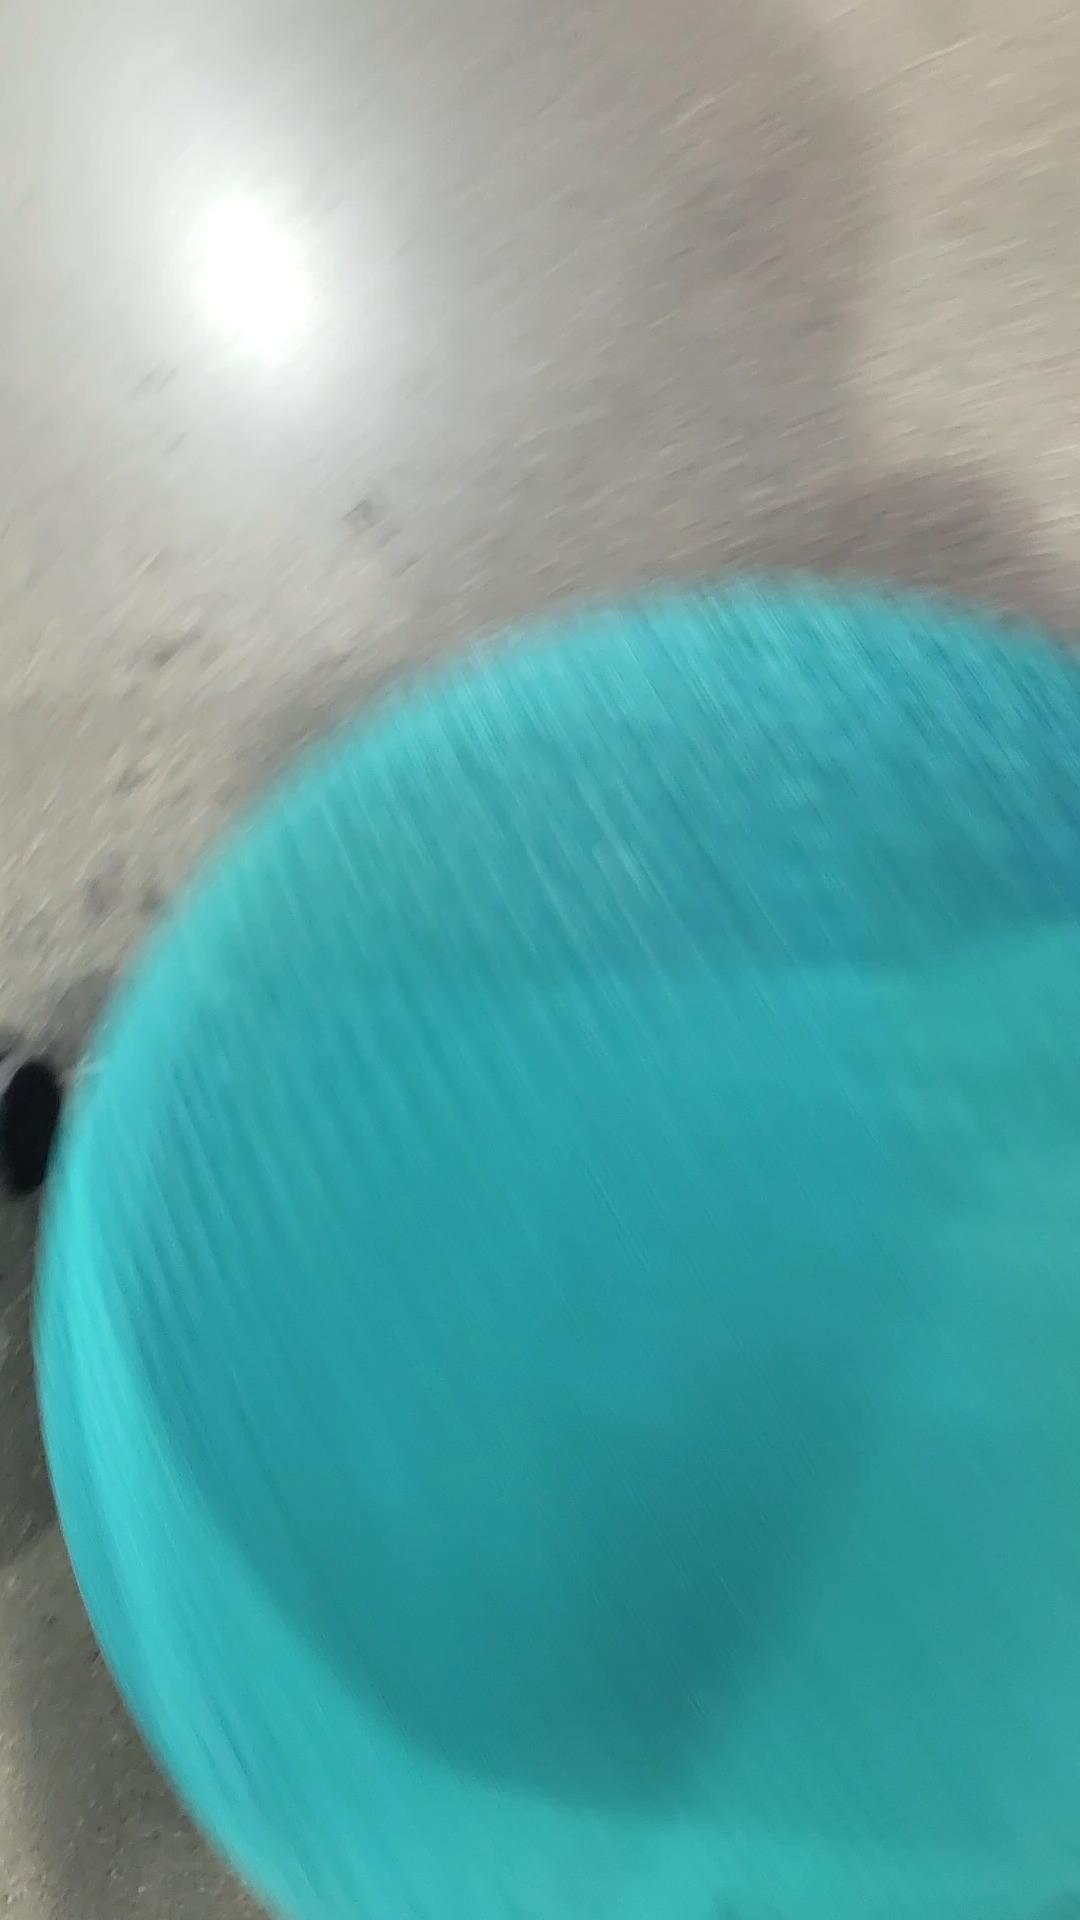algae: (0, 556, 1079, 1920)
